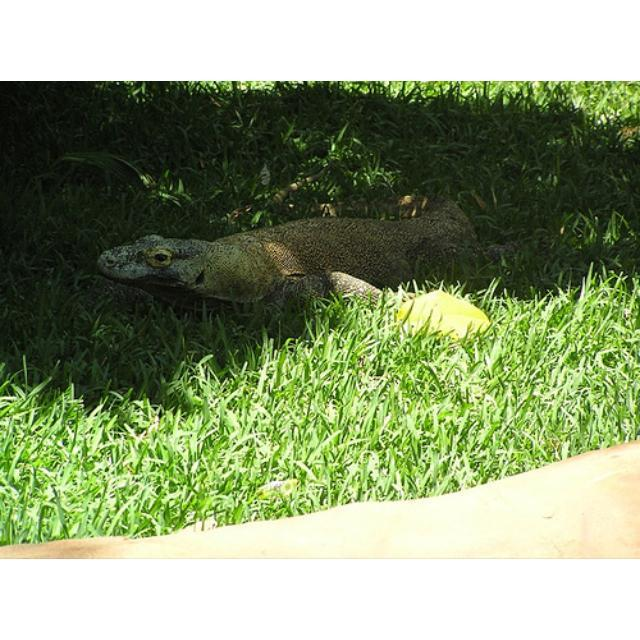KomodoDragon: (96, 198, 552, 315)
